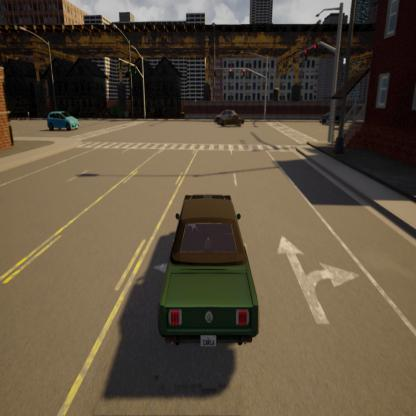Cars: (145, 174, 287, 383), (42, 93, 92, 156), (214, 105, 261, 148)
